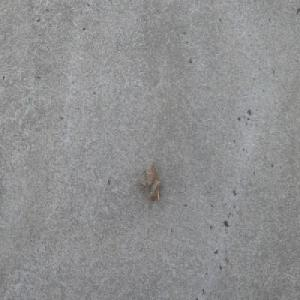Rock: (136, 159, 160, 202)
